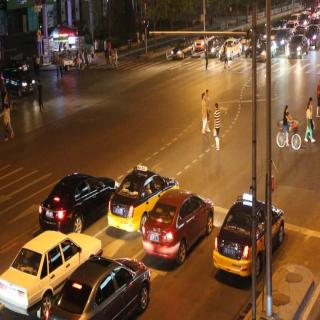Car: (0, 227, 102, 308), (37, 257, 152, 320), (212, 190, 284, 284), (112, 154, 180, 224), (42, 168, 116, 231), (146, 187, 211, 254), (0, 63, 38, 103), (252, 36, 286, 72), (168, 35, 192, 69), (288, 35, 313, 63), (274, 27, 295, 52), (220, 39, 244, 59), (304, 21, 320, 47), (194, 29, 210, 53), (204, 36, 226, 53)
